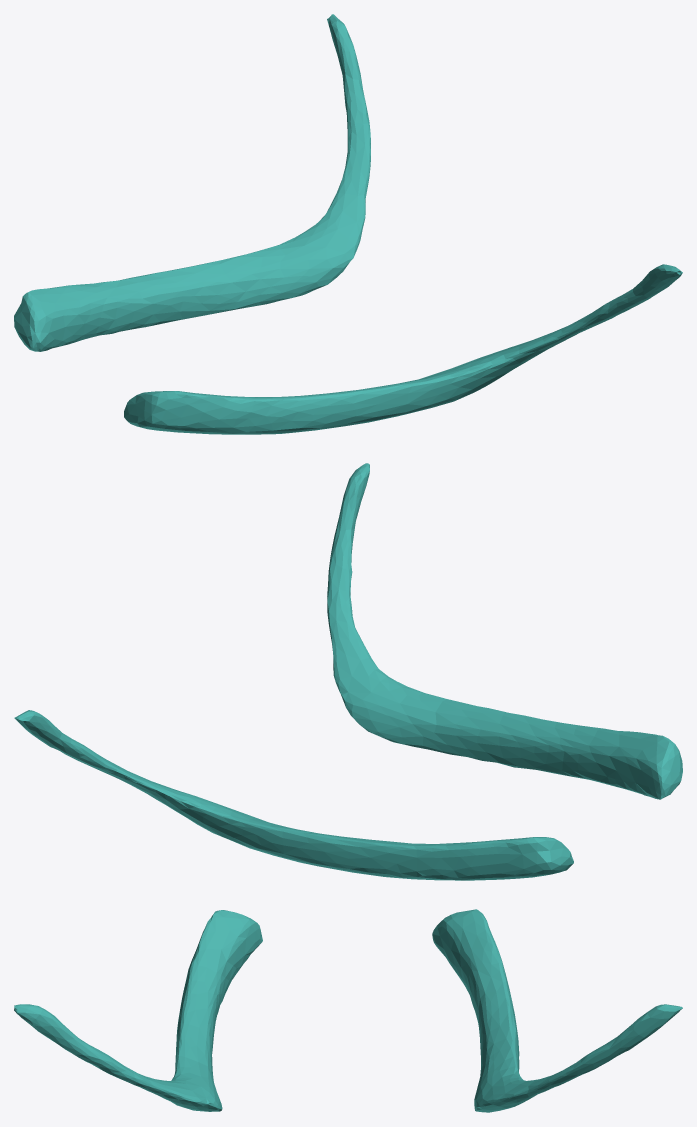
The picture shows the model from 3 angles, top to bottom: view 1: azimuth 30°, elevation 25°; view 2: azimuth 150°, elevation 25°; view 3: azimuth 270°, elevation 25°; orthographic projection. The views are drawn at different scales.
Parts seen in each view (by area): view 1: 774.obj; view 2: 774.obj; view 3: 774.obj.
Boxes of the visible parts, x1=… form: 774.obj: x1=14, y1=14, x2=682, y2=434; 774.obj: x1=14, y1=463, x2=682, y2=880; 774.obj: x1=14, y1=909, x2=682, y2=1112.
Size of the model in its own units: 3816 by 1444 by 5318.
